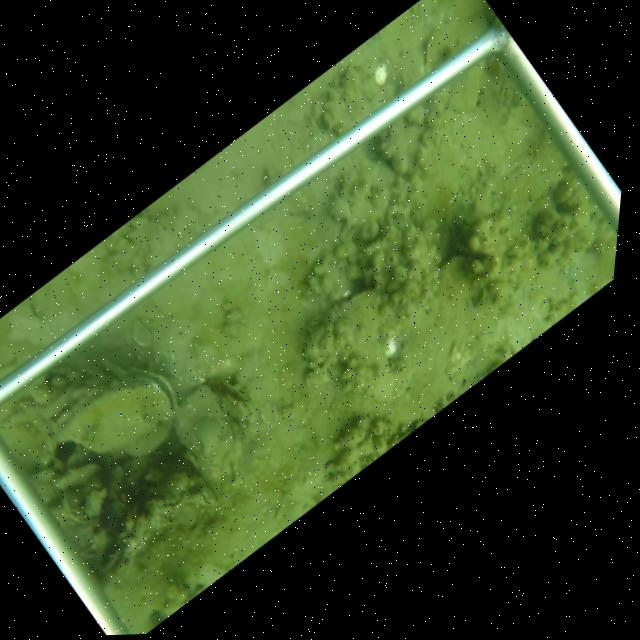Oyster-Closed: (176, 382, 239, 470), (222, 378, 251, 408), (63, 490, 87, 523)
Oyster-Indeterminate: (311, 287, 394, 408), (318, 61, 400, 137), (422, 23, 464, 75)
Oyster-Open: (47, 370, 180, 460)
